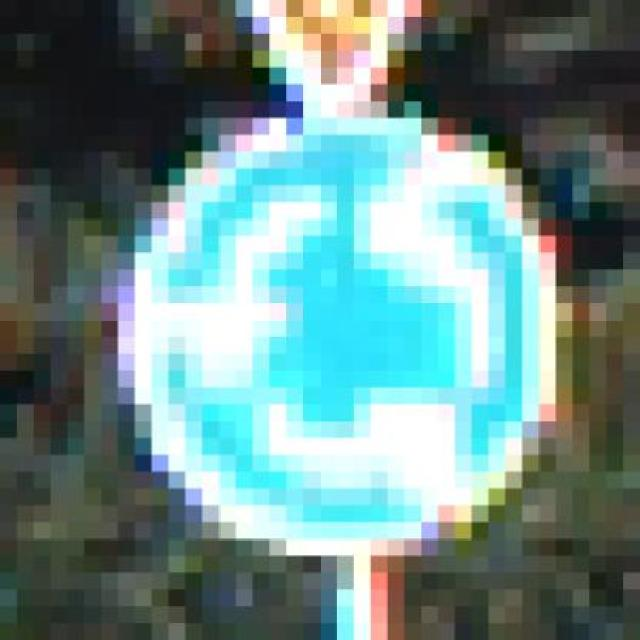Round-About: (67, 84, 607, 556)
